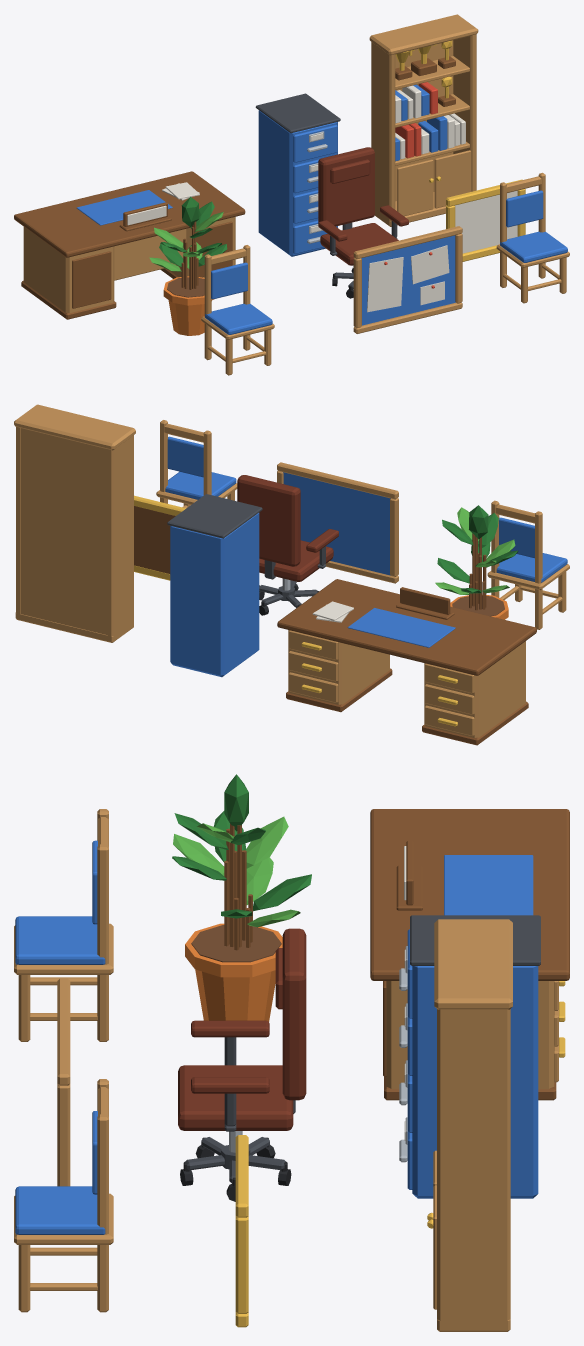
The model's file is principals-office-set.glb.
3 views of the same model, one above another, from view 1: azimuth 30°, elevation 25°; view 2: azimuth 150°, elevation 25°; view 3: azimuth 270°, elevation 25° (orthographic). The views are drawn at different scales.
Visible parts, largest first — view 1: Bookshelf_Frame, Desk_Top, Desk_Body, Cabinet_Body, ChairP_Back, Desk_Trim, Board_Panel, Board_Posters, Board_Frame, VisitorChair_1_Frame, VisitorChair_2_Frame, Picture_Canvas (+25 smaller); view 2: Bookshelf_Frame, Cabinet_Body, Desk_Top, Board_Panel, Desk_Body, ChairP_Back, VisitorChair_1_Frame, Board_Frame, Cabinet_Top, Desk_Blotter, Picture_Back, VisitorChair_2_Frame (+20 smaller); view 3: Bookshelf_Frame, Desk_Top, Cabinet_Body, ChairP_Back, VisitorChair_2_Frame, VisitorChair_1_Frame, Seat, Desk_Blotter, Plant_Pot, Plant_FoliageDark, VisitorChair_1_Seat, VisitorChair_2_Seat (+11 smaller).
Boxes of the visible parts, x1,y1,x2,y2 form: Bookshelf_Frame: [369, 14, 478, 226]; Desk_Top: [14, 171, 245, 257]; Desk_Body: [23, 217, 235, 313]; Cabinet_Body: [258, 110, 337, 256]; ChairP_Back: [318, 147, 408, 241]; Desk_Trim: [21, 221, 232, 319]; Board_Panel: [361, 235, 455, 325]; Board_Posters: [367, 245, 449, 312]; Board_Frame: [353, 226, 462, 333]; VisitorChair_1_Frame: [201, 245, 274, 375]; VisitorChair_2_Frame: [496, 172, 569, 303]; Picture_Canvas: [455, 190, 517, 253]; Bookshelf_Frame: [14, 404, 135, 642]; Cabinet_Body: [170, 513, 259, 677]; Desk_Top: [277, 579, 536, 675]; Board_Panel: [283, 472, 390, 575]; Desk_Body: [288, 630, 525, 737]; ChairP_Back: [237, 475, 338, 566]; VisitorChair_1_Frame: [487, 500, 569, 629]; Board_Frame: [277, 462, 398, 583]; Cabinet_Top: [167, 494, 262, 538]; Desk_Blotter: [347, 608, 455, 647]; Picture_Back: [134, 506, 175, 573]; VisitorChair_2_Frame: [156, 420, 237, 508]; Bookshelf_Frame: [434, 919, 512, 1331]; Desk_Top: [370, 809, 569, 980]; Cabinet_Body: [412, 966, 538, 1198]; ChairP_Back: [191, 928, 306, 1100]; VisitorChair_2_Frame: [14, 1079, 113, 1312]; VisitorChair_1_Frame: [14, 809, 113, 1041]; Seat: [178, 1065, 293, 1130]; Desk_Blotter: [444, 855, 533, 915]; Plant_Pot: [185, 923, 282, 1021]; Plant_FoliageDark: [172, 774, 311, 918]; VisitorChair_1_Seat: [15, 916, 105, 964]; VisitorChair_2_Seat: [15, 1186, 105, 1234].
Size of the model in its own units: 17.72 by 7.03 by 10.59.
